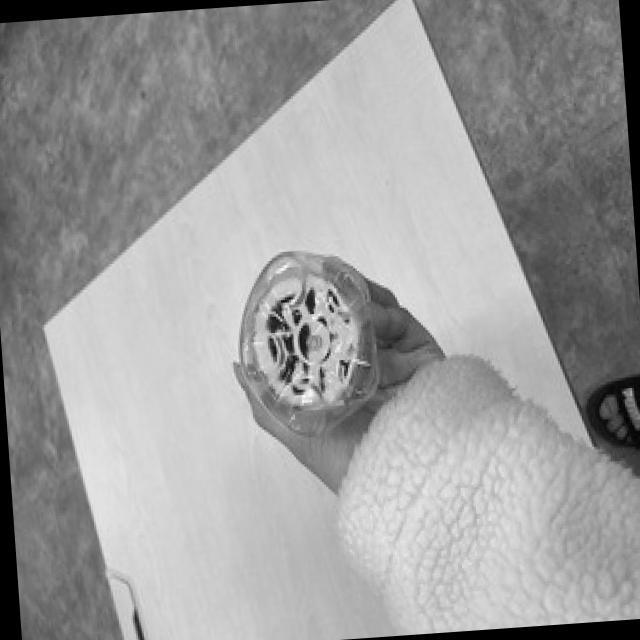good: (214, 240, 403, 446)
